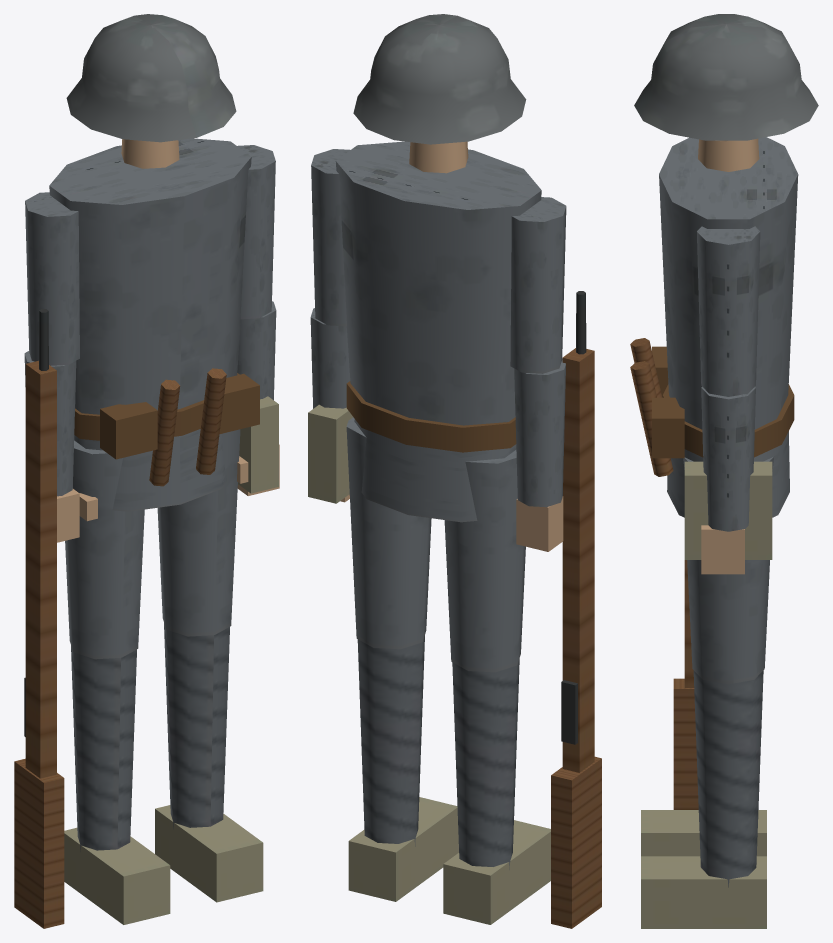
File: infantry-1.glb
The picture shows the model from 3 angles, left to right: view 1: azimuth 30°, elevation 25°; view 2: azimuth 150°, elevation 25°; view 3: azimuth 270°, elevation 25°; orthographic projection. The views are drawn at different scales.
Visible parts, largest first — view 1: body, rifle, shin_left, shin_right, head, leg_right, leg_left, arm_right, arm_left, forearm_right, forearm_left; view 2: body, rifle, shin_left, shin_right, head, leg_right, leg_left, arm_right, forearm_right, arm_left, forearm_left; view 3: body, shin_left, head, arm_left, leg_left, forearm_left, rifle, shin_right.
Part boxes in pixels (bbox=[...]): body: bbox=[49, 138, 278, 511]; rifle: bbox=[14, 309, 64, 928]; shin_left: bbox=[155, 623, 263, 902]; shin_right: bbox=[64, 646, 170, 924]; head: bbox=[66, 14, 236, 168]; leg_right: bbox=[65, 440, 144, 659]; leg_left: bbox=[157, 429, 240, 636]; arm_right: bbox=[25, 192, 79, 365]; arm_left: bbox=[237, 145, 275, 319]; forearm_right: bbox=[24, 351, 97, 542]; forearm_left: bbox=[237, 301, 279, 495]; body: bbox=[308, 141, 541, 522]; rifle: bbox=[551, 291, 601, 928]; shin_left: bbox=[348, 635, 458, 901]; shin_right: bbox=[443, 658, 550, 924]; head: bbox=[353, 14, 526, 173]; leg_right: bbox=[444, 450, 525, 672]; leg_left: bbox=[346, 417, 431, 649]; arm_right: bbox=[510, 197, 566, 373]; forearm_right: bbox=[514, 358, 565, 551]; arm_left: bbox=[311, 149, 349, 326]; forearm_left: bbox=[310, 308, 350, 502]; body: bbox=[630, 137, 798, 559]; shin_left: bbox=[641, 670, 766, 928]; head: bbox=[634, 14, 818, 171]; arm_left: bbox=[697, 226, 760, 396]; leg_left: bbox=[683, 457, 773, 684]; forearm_left: bbox=[701, 386, 755, 574]; rifle: bbox=[673, 560, 698, 809]; shin_right: bbox=[641, 810, 766, 856].
Bounding box in the file's own units: 0.552 × 1.75 × 0.344.
7 materials, 7 textured.
